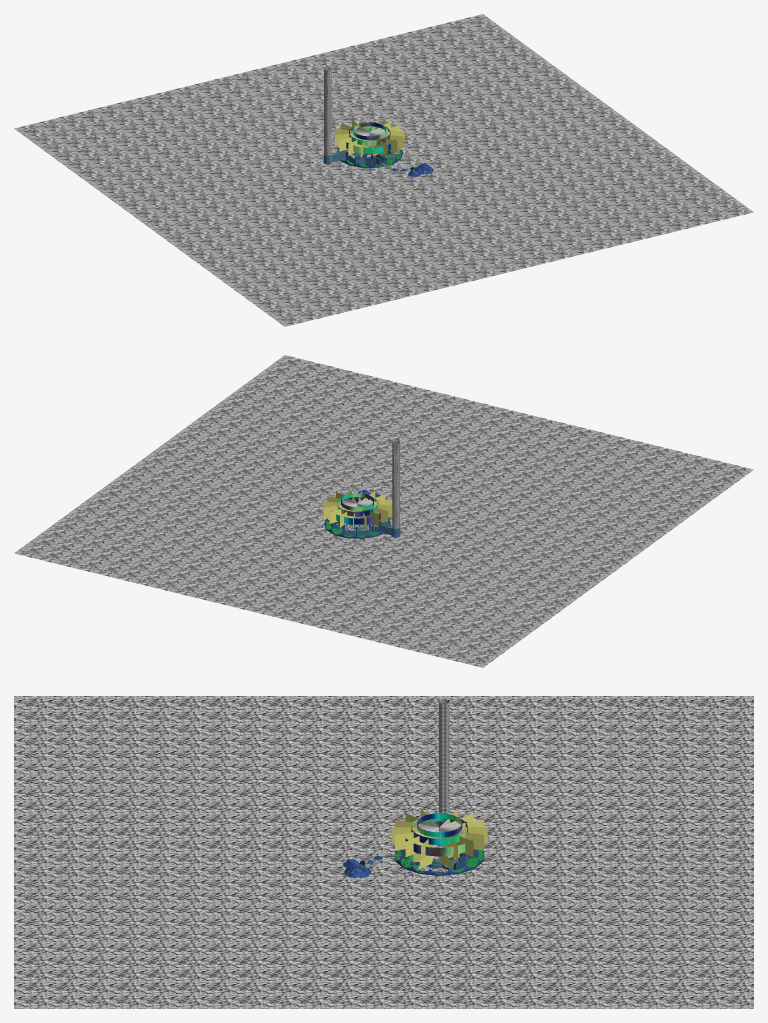
The picture shows the model from 3 angles, top to bottom: view 1: azimuth 30°, elevation 25°; view 2: azimuth 150°, elevation 25°; view 3: azimuth 270°, elevation 25°; orthographic projection. The views are drawn at different scales.
Visible parts, largest first — view 1: ef_sea.005, as_spots.001, as_ab.001, WT_WTaki.001; view 2: ef_sea.005, as_spots.001, as_ab.001, WT_WTaki.001; view 3: ef_sea.005, as_spots.001, as_ab.001, WT_WTaki.001, rock.009.
Part boxes in pixels (bbox=[...]): ef_sea.005: bbox=[14, 14, 753, 326]; as_spots.001: bbox=[334, 118, 404, 168]; as_ab.001: bbox=[346, 122, 413, 170]; WT_WTaki.001: bbox=[324, 67, 336, 163]; ef_sea.005: bbox=[14, 355, 753, 667]; as_spots.001: bbox=[322, 489, 392, 528]; as_ab.001: bbox=[331, 493, 380, 524]; WT_WTaki.001: bbox=[359, 440, 399, 528]; ef_sea.005: bbox=[14, 696, 753, 1008]; as_spots.001: bbox=[385, 809, 487, 868]; as_ab.001: bbox=[360, 813, 476, 866]; WT_WTaki.001: bbox=[438, 699, 449, 869]; rock.009: bbox=[343, 850, 484, 878].
Size of the model in its own units: 1500000 by 303900 by 1500000.
Materials: 41 (41 with a texture image).
